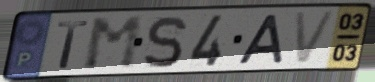4: (188, 12, 226, 69)
A: (235, 12, 286, 67)
M: (82, 14, 145, 73)
S: (141, 14, 189, 70)
T: (56, 18, 92, 71)
V: (292, 8, 340, 67)
